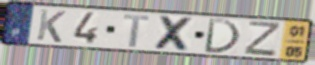4: (72, 11, 101, 46)
D: (202, 17, 243, 55)
K: (35, 8, 68, 44)
T: (122, 13, 152, 49)
X: (153, 14, 196, 54)
Z: (243, 20, 283, 58)
